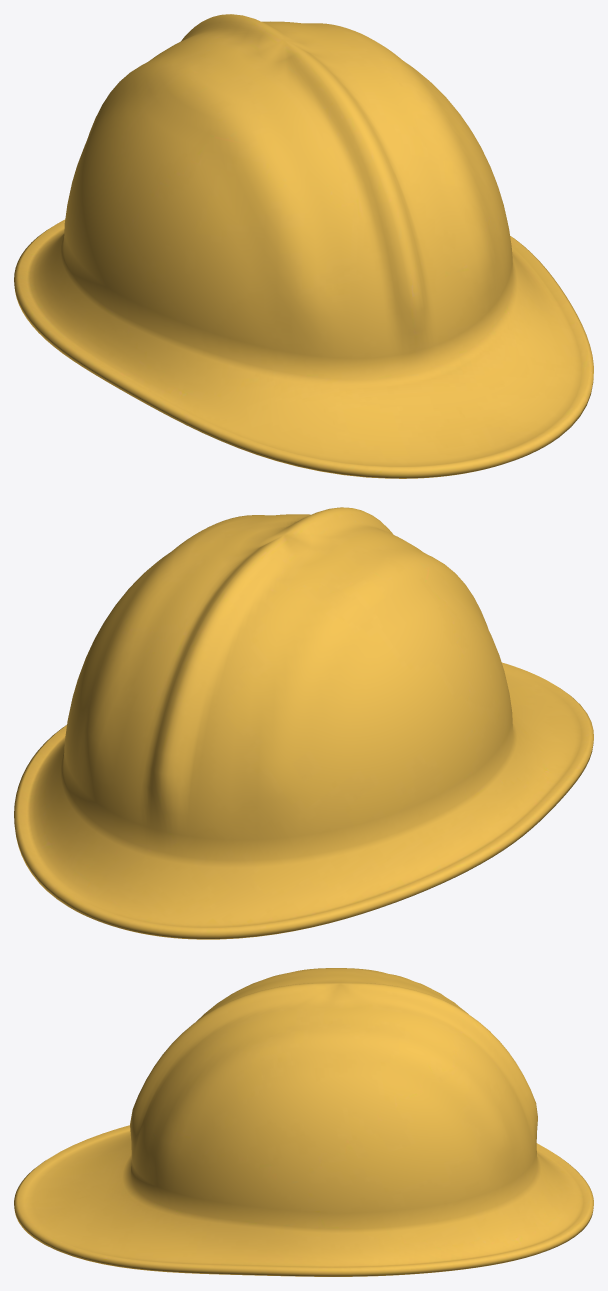
Rendered from hard-hat.glb.
3 renders of one model, top to bottom at view 1: azimuth 30°, elevation 25°; view 2: azimuth 150°, elevation 25°; view 3: azimuth 270°, elevation 25°, orthographic. The views are drawn at different scales.
Parts seen in each view (by area): view 1: hard-hat_body; view 2: hard-hat_body; view 3: hard-hat_body.
Boxes of the visible parts, x1=… form: hard-hat_body: x1=14, y1=14, x2=593, y2=478; hard-hat_body: x1=14, y1=507, x2=593, y2=939; hard-hat_body: x1=14, y1=968, x2=593, y2=1276.
Bounding box in the file's own units: 0.263 × 0.1569 × 0.365.
1 material, 1 textured.
